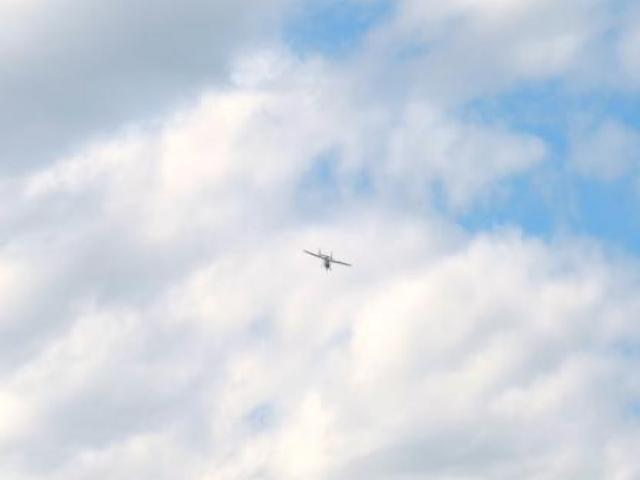uav: (302, 245, 352, 275)
